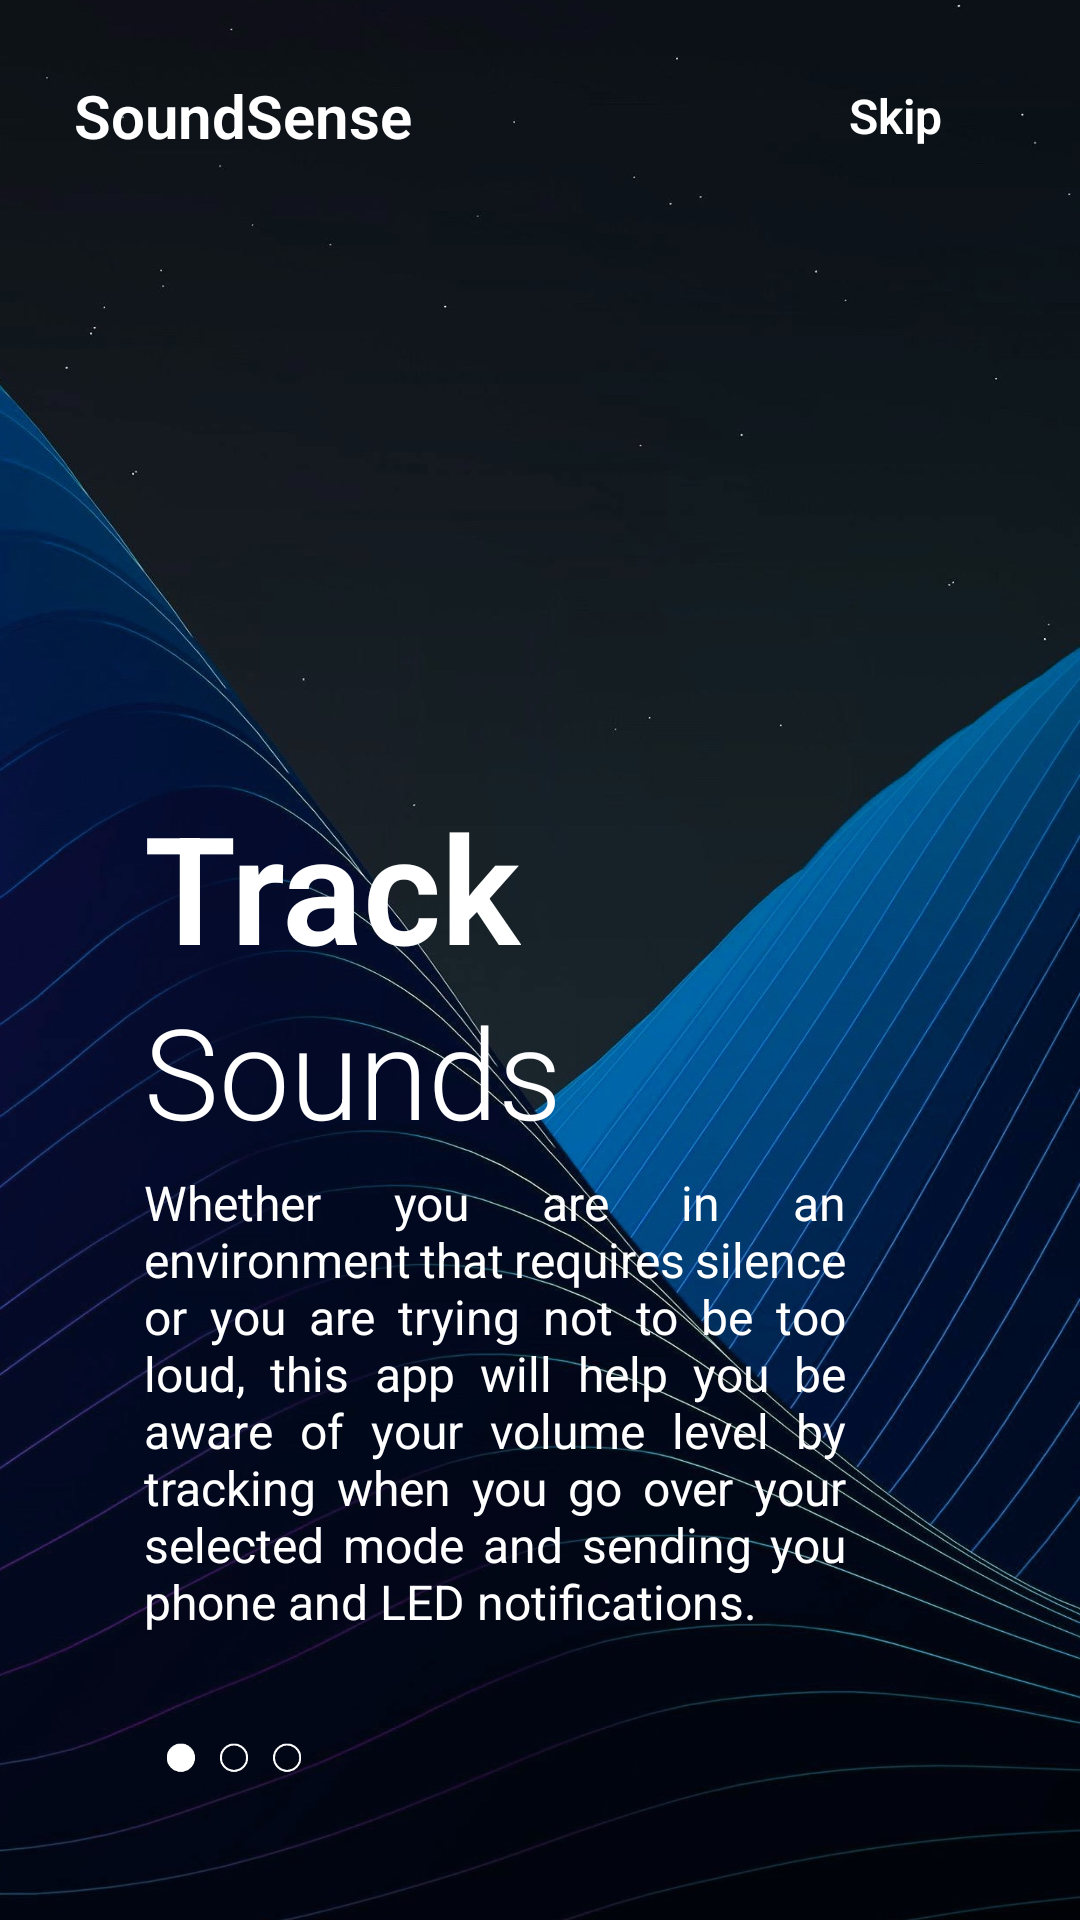

Locate icon controls on the screen. Image size 1080px×1920px, boxes as [x1=x1, y1=y1, x2=x2, y2=y2].
tab: [x1=167, y1=1743, x2=301, y2=1772]
